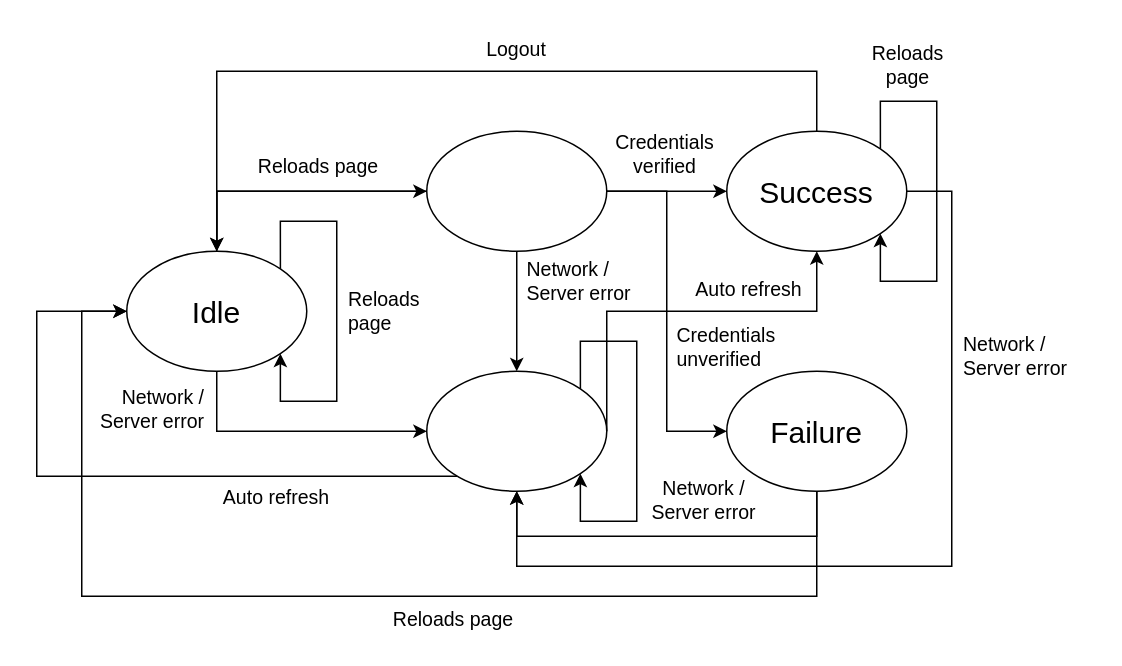
Some shapes in this 1122 by 666 pixel diagram are drawn without their labels. Each missing label, with the box of its shape:
Error: (425, 370, 607, 491)
Submitting: (425, 130, 607, 251)
